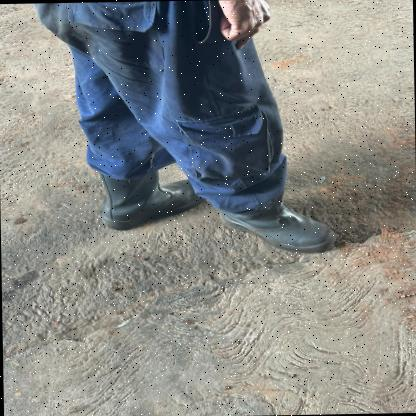bota: (218, 190, 356, 254), (83, 161, 207, 227)
